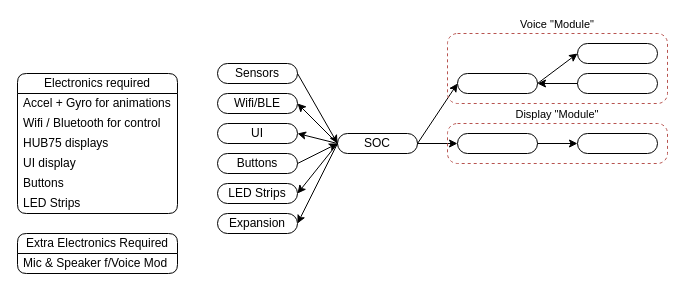
Image size: 685x291. Some labels were removed from this diagram. The centre of each missing label's shape, as x and y in pixels:
"Display Driver" belongs at (x=497, y=143).
"HUB75" belongs at (x=617, y=143).
"Microphone" belongs at (x=617, y=83).
"Speaker" belongs at (x=617, y=53).
"Voice Mod" belongs at (x=497, y=83).
